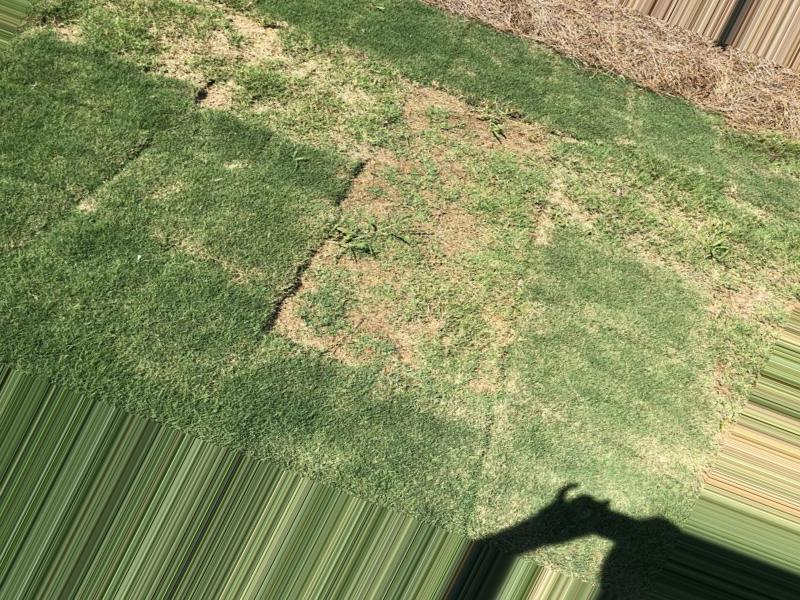patch: (401, 166, 530, 398), (286, 52, 356, 128), (324, 264, 386, 346), (186, 26, 239, 90), (416, 98, 475, 145)
